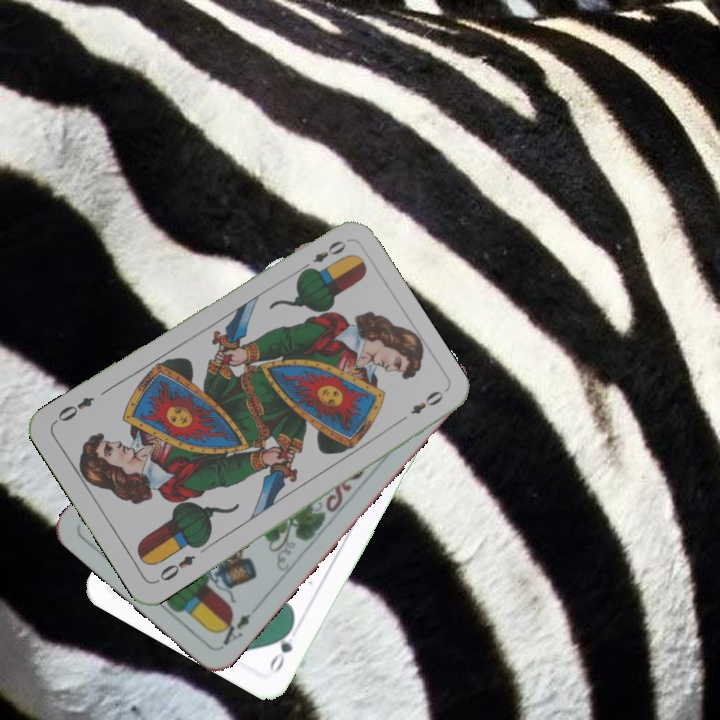EA: (213, 609, 254, 649)
EO: (296, 236, 349, 275), (152, 551, 198, 586)
GO: (265, 620, 297, 676)
